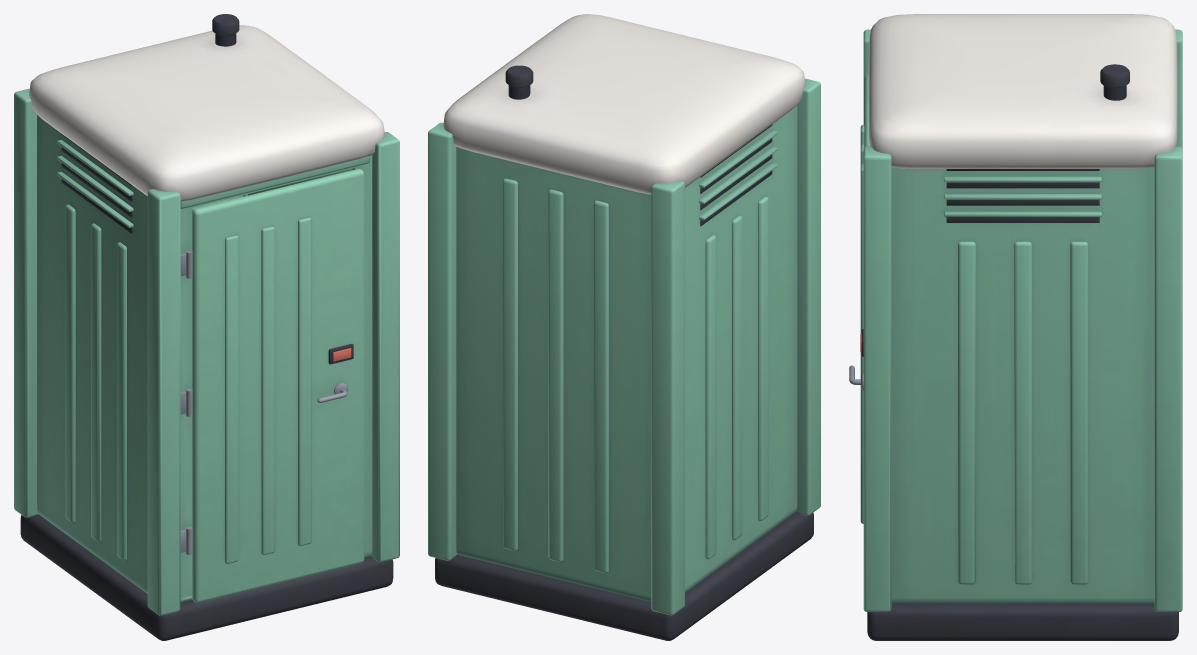
The model's file is prop_porta_john.glb.
3 views of the same model, side by side, from view 1: azimuth 30°, elevation 25°; view 2: azimuth 150°, elevation 25°; view 3: azimuth 270°, elevation 25° (orthographic). The views are drawn at different scales.
Visible parts, largest first — view 1: portable-toilet_body, portable-toilet_door; view 2: portable-toilet_body; view 3: portable-toilet_body, portable-toilet_door.
Boxes of the visible parts, <box> form: portable-toilet_body: <box>14,14,399,640</box>; portable-toilet_door: <box>192,168,364,602</box>; portable-toilet_body: <box>428,14,820,640</box>; portable-toilet_body: <box>863,14,1182,640</box>; portable-toilet_door: <box>849,74,869,523</box>.
Size of the model in its own units: 1.19 by 2.35 by 1.31.
Materials: 2 (2 with a texture image).
